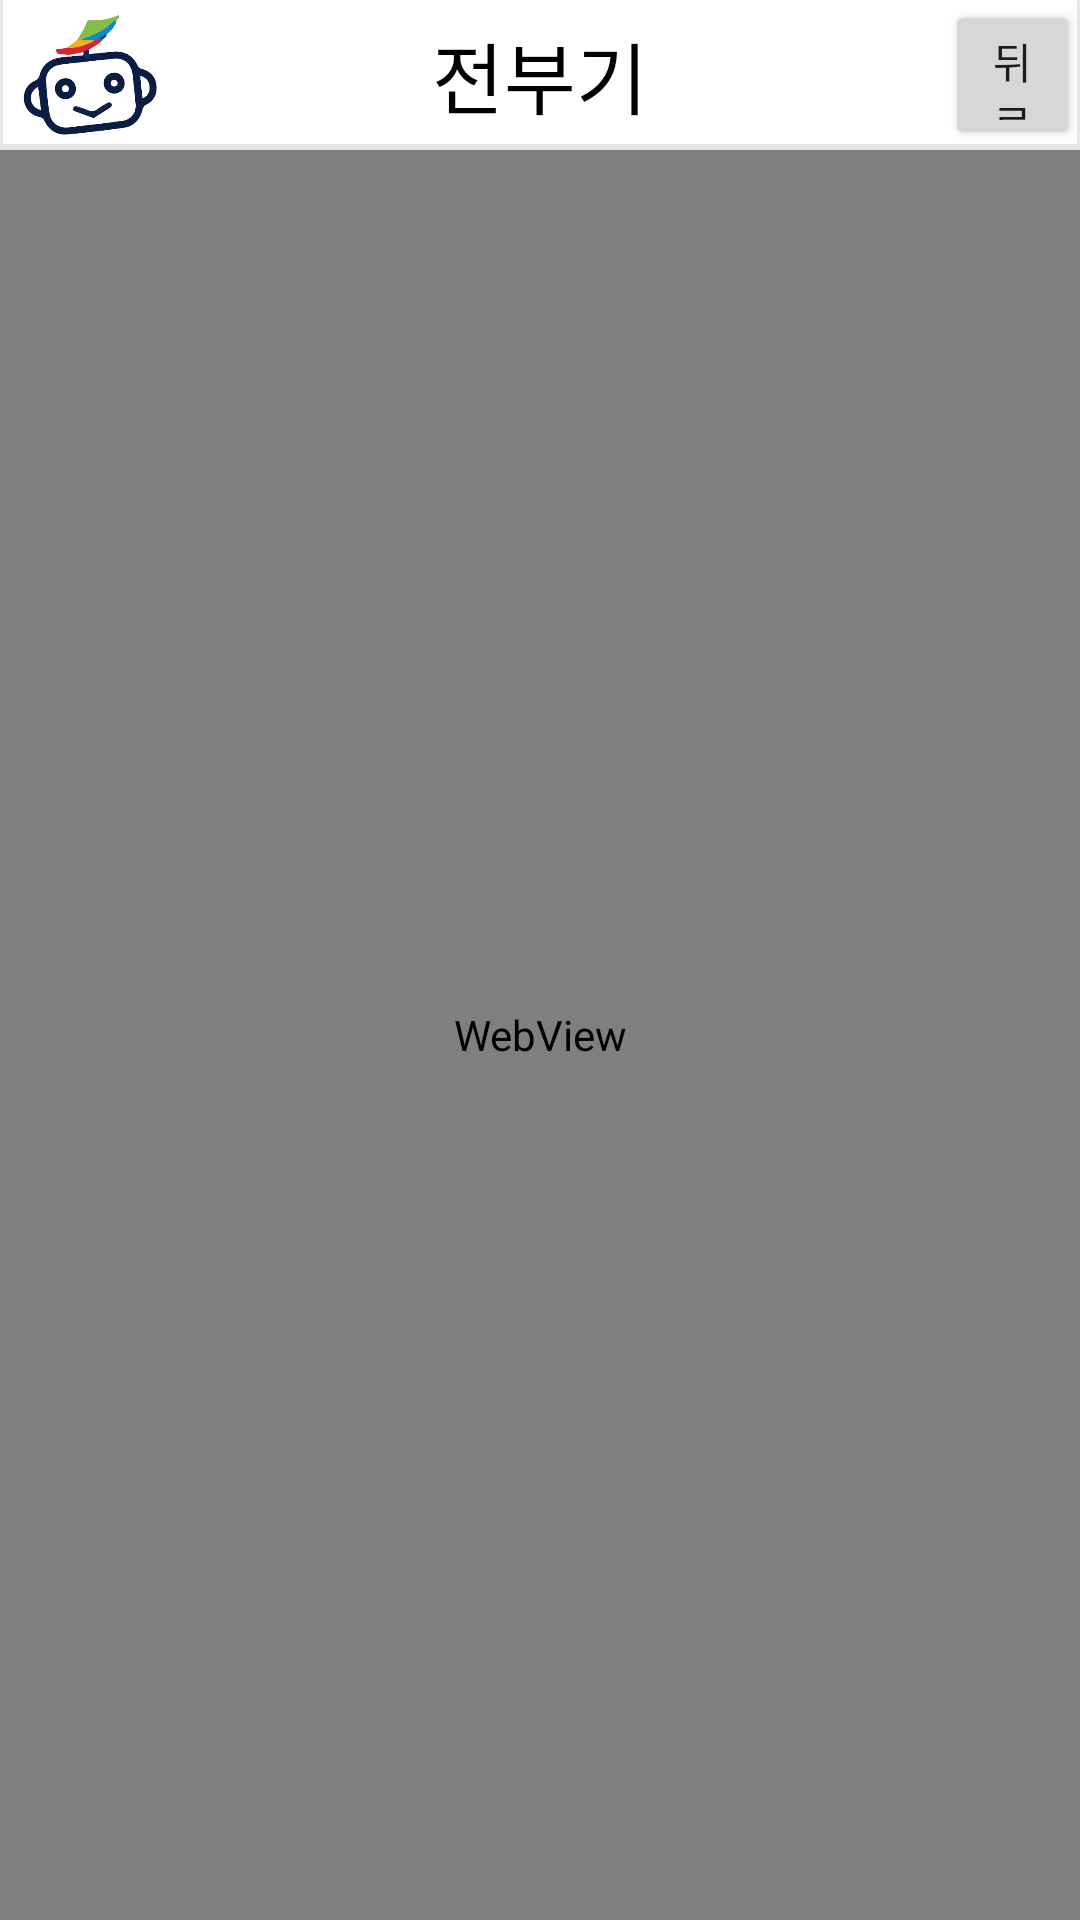

Screen size 1080px×1920px. Icon name, then its center in pixels as point (x, y):
chatbotcharacter: point (90, 75)
